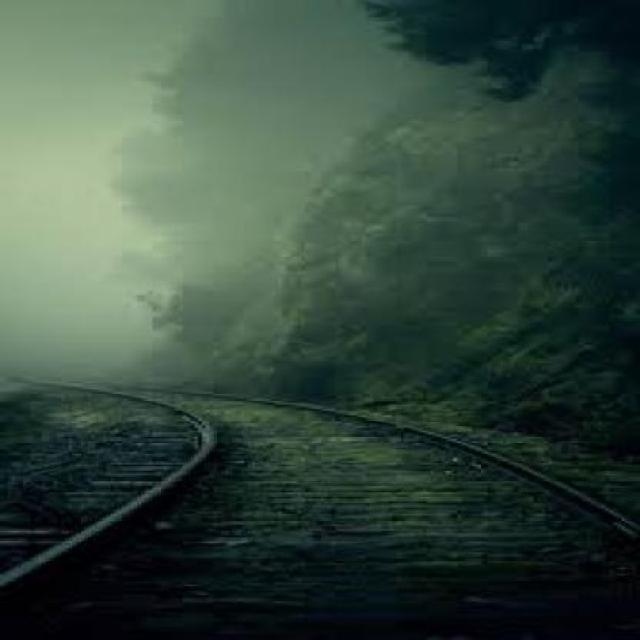rail: (0, 358, 640, 637)
